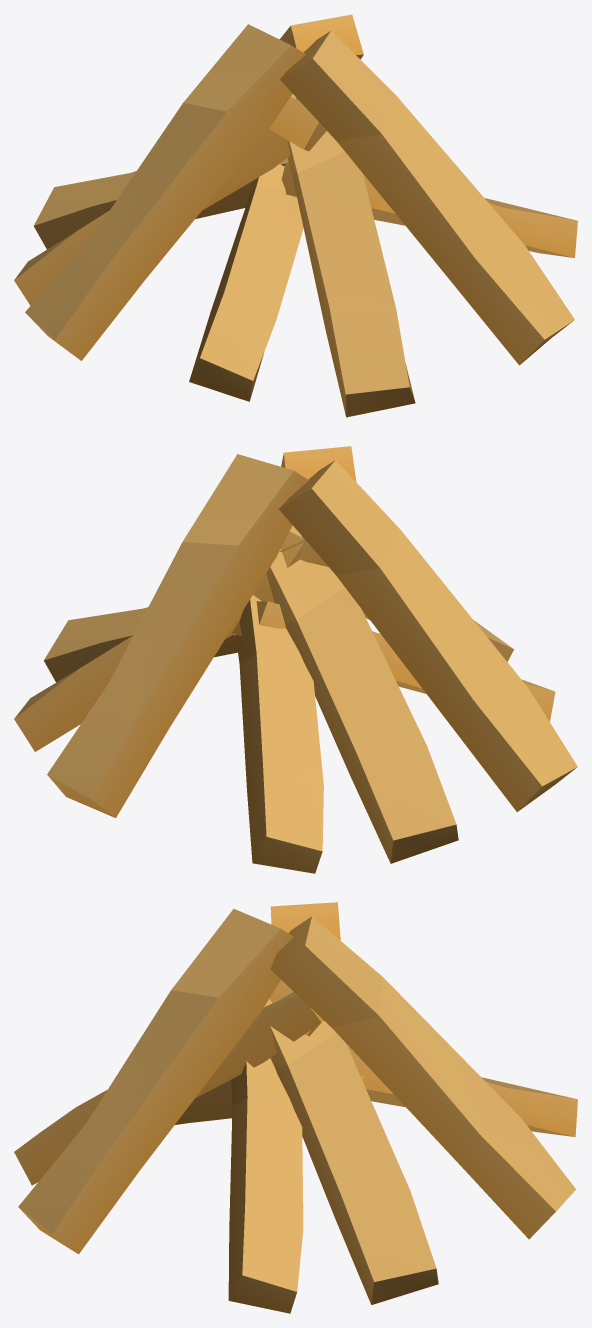
The model's file is ApiUnggunKayu.fbx.
3 views of the same model, one above another, from view 1: azimuth 30°, elevation 25°; view 2: azimuth 150°, elevation 25°; view 3: azimuth 270°, elevation 25° (orthographic). The views are drawn at different scales.
Parts seen in each view (by area): view 1: Fireplace; view 2: Fireplace; view 3: Fireplace.
Part boxes in pixels (x1,y1,x2,y2): Fireplace: [14, 14, 577, 417]; Fireplace: [14, 446, 577, 873]; Fireplace: [14, 902, 577, 1313].
Size of the model in its own units: 68.89 by 36.93 by 65.5.
